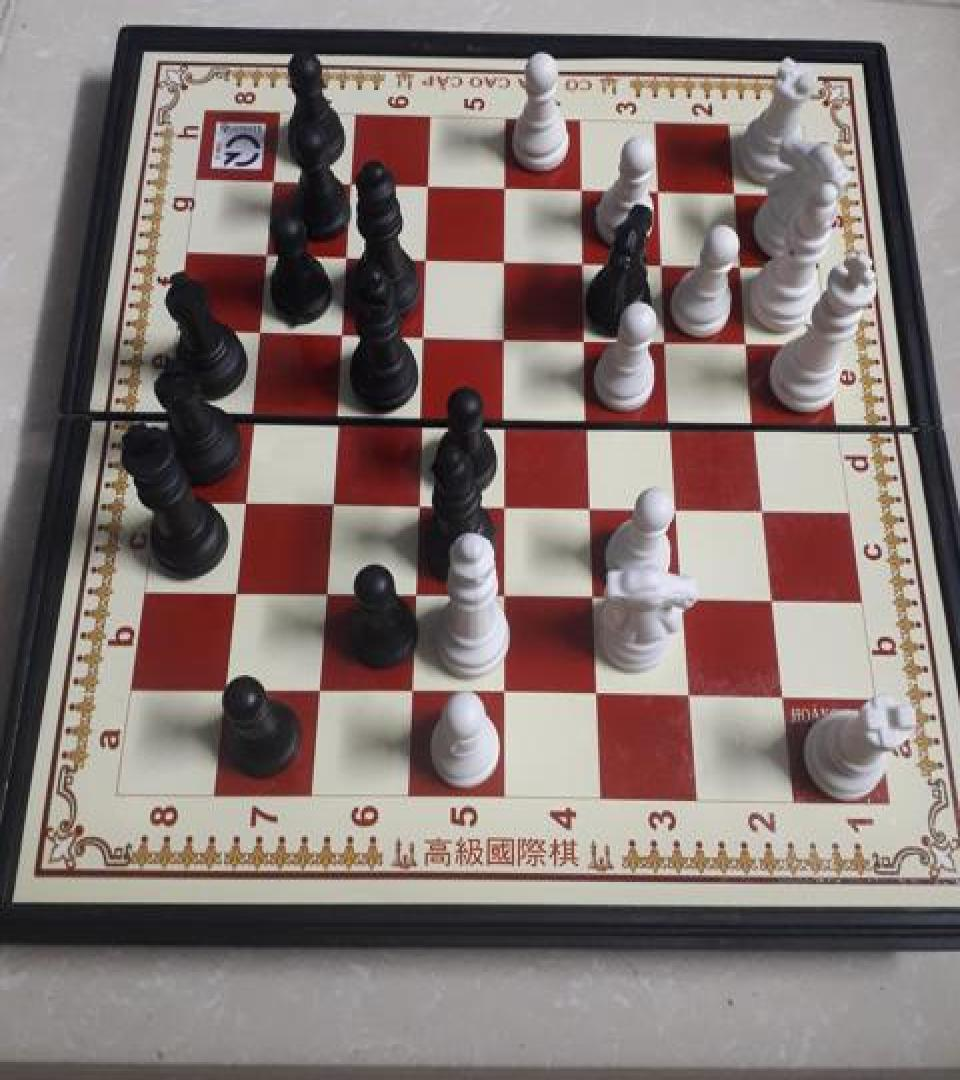xcorner: (219, 571, 251, 608), (671, 580, 703, 617), (760, 581, 792, 618), (210, 672, 242, 708), (304, 673, 336, 709), (399, 674, 431, 710), (492, 676, 524, 712), (585, 677, 617, 713), (678, 678, 710, 714), (769, 680, 801, 716), (311, 574, 343, 610), (402, 575, 434, 611), (492, 577, 524, 613), (582, 578, 614, 614), (228, 479, 260, 515), (317, 480, 349, 516), (405, 482, 437, 518), (492, 485, 524, 521), (579, 486, 611, 522), (666, 488, 698, 524), (751, 490, 783, 526), (237, 392, 269, 428), (322, 394, 354, 430), (407, 396, 439, 432), (492, 398, 524, 434), (576, 400, 608, 436), (660, 402, 692, 438), (743, 404, 775, 440), (244, 310, 276, 346), (327, 313, 359, 349), (410, 315, 442, 351), (492, 317, 524, 353), (574, 320, 606, 356), (655, 322, 687, 358), (736, 323, 768, 359), (252, 233, 284, 269), (332, 236, 364, 272), (412, 238, 444, 274), (492, 241, 524, 277), (571, 243, 603, 279), (650, 245, 682, 281), (728, 248, 760, 284), (259, 161, 291, 197), (337, 163, 369, 199), (415, 166, 447, 202), (492, 169, 524, 205), (569, 171, 601, 207), (646, 173, 678, 209), (722, 176, 754, 212)
